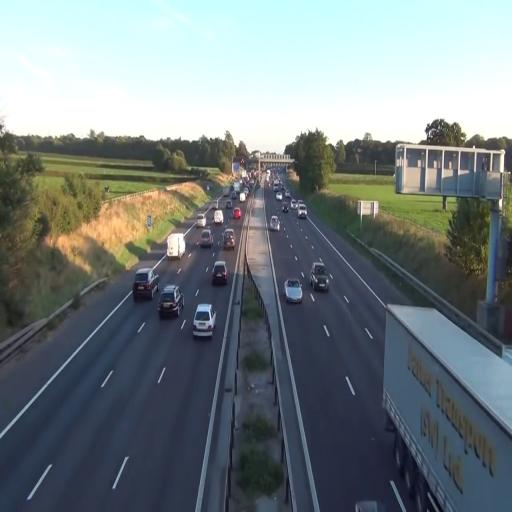vehicle: (158, 285, 184, 319), (192, 303, 216, 338), (133, 270, 153, 302), (310, 260, 330, 291), (284, 279, 303, 303), (210, 262, 228, 286), (223, 228, 236, 250), (200, 229, 213, 247), (296, 202, 307, 219)
